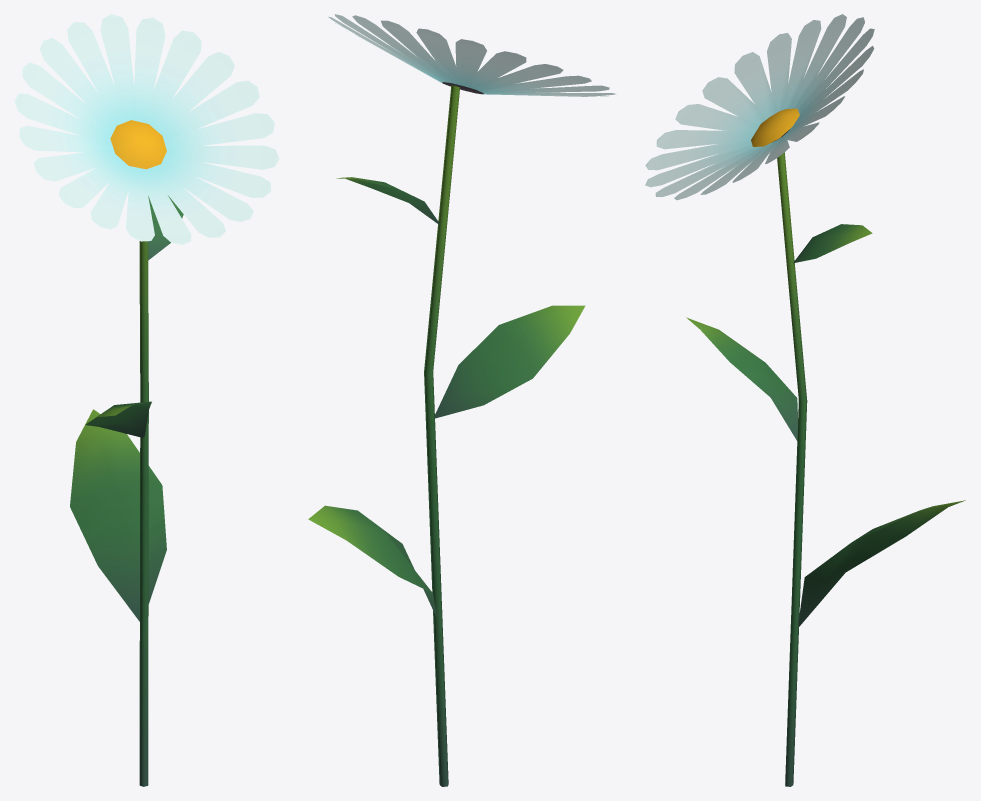
File: flower_013_base_material_0.fbx
3 renders of one model, left to right at view 1: azimuth 30°, elevation 25°; view 2: azimuth 150°, elevation 25°; view 3: azimuth 270°, elevation 25°, orthographic. The views are drawn at different scales.
Parts seen in each view (by area): view 1: flower_013_base_material_0; view 2: flower_013_base_material_0; view 3: flower_013_base_material_0.
Boxes of the visible parts, left/top/right/bottom form: flower_013_base_material_0: left=14, top=14, right=279, bottom=786; flower_013_base_material_0: left=308, top=14, right=616, bottom=786; flower_013_base_material_0: left=645, top=14, right=965, bottom=786.
Bounding box in the file's own units: 0.7341 × 0.8531 × 2.17.
1 material, 1 textured.
